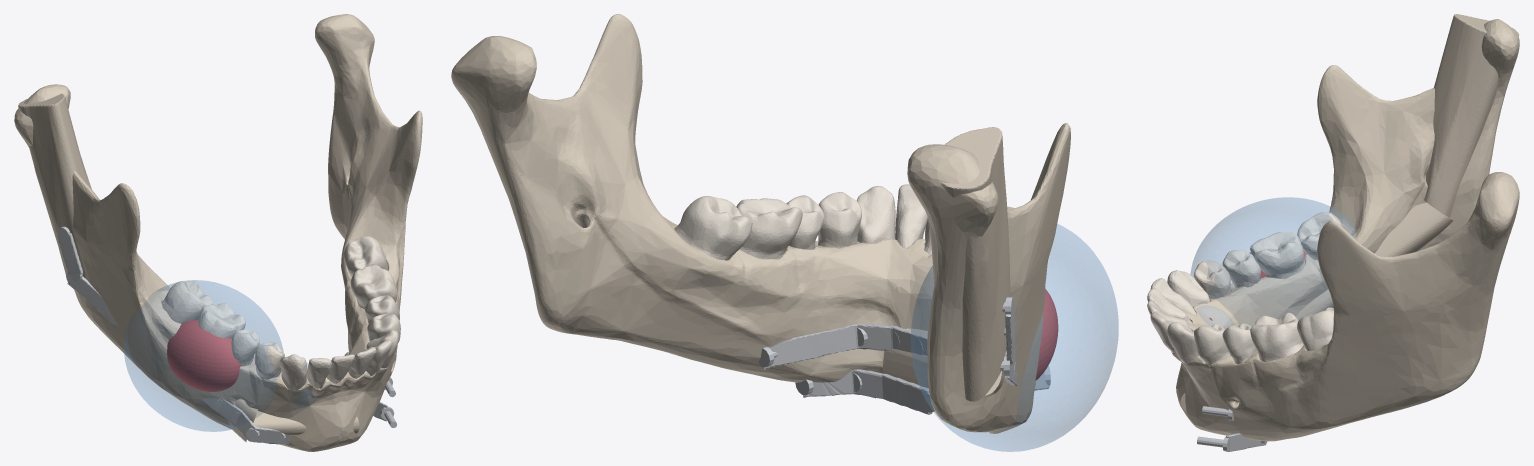
File: scc-case.glb
3 renders of one model, left to right at view 1: azimuth 30°, elevation 25°; view 2: azimuth 150°, elevation 25°; view 3: azimuth 270°, elevation 25°, orthographic. The views are drawn at different scales.
Parts seen in each view (by area): view 1: specimen_bone, margin, bone, specimen_teeth, fibula, teeth, lesion, plate, screws; view 2: bone, specimen_bone, margin, teeth, fibula, plate, screws, lesion; view 3: bone, specimen_bone, margin, fibula, specimen_teeth, teeth, screws, plate.
Part boxes in pixels (box(x1,y1,x2,y2)): specimen_bone: box(14, 84, 364, 451); margin: box(124, 280, 316, 431); bone: box(315, 14, 422, 442); specimen_teeth: box(161, 281, 376, 390); fibula: box(18, 93, 359, 441); teeth: box(343, 236, 400, 376); lesion: box(167, 320, 241, 391); plate: box(57, 233, 387, 444); screws: box(57, 226, 396, 443); bone: box(451, 14, 918, 382); specimen_bone: box(892, 123, 1070, 433); margin: box(911, 224, 1118, 451); teeth: box(674, 184, 927, 260); fibula: box(882, 127, 1010, 401); plate: box(764, 301, 1049, 414); screws: box(758, 297, 1050, 412); lesion: box(1035, 289, 1058, 380); bone: box(1171, 172, 1519, 441); specimen_bone: box(1176, 19, 1519, 419); margin: box(1190, 197, 1356, 328); fibula: box(1180, 14, 1519, 411); specimen_teeth: box(1147, 212, 1343, 331); teeth: box(1150, 307, 1333, 370); screws: box(1197, 406, 1267, 451); plate: box(1226, 420, 1266, 451).
Bounding box in the file's own units: 0.1031 × 0.0821 × 0.0866.
